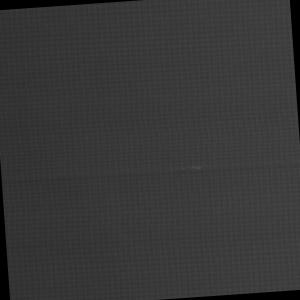Wrinkle: (6, 206, 300, 296), (1, 141, 300, 207)
